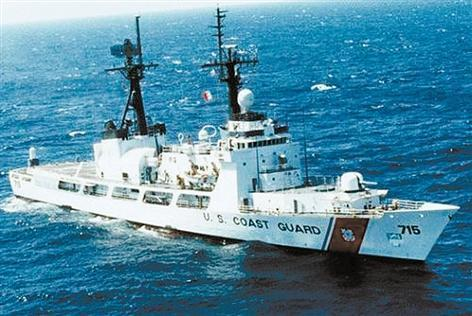warship: (4, 4, 462, 266)
